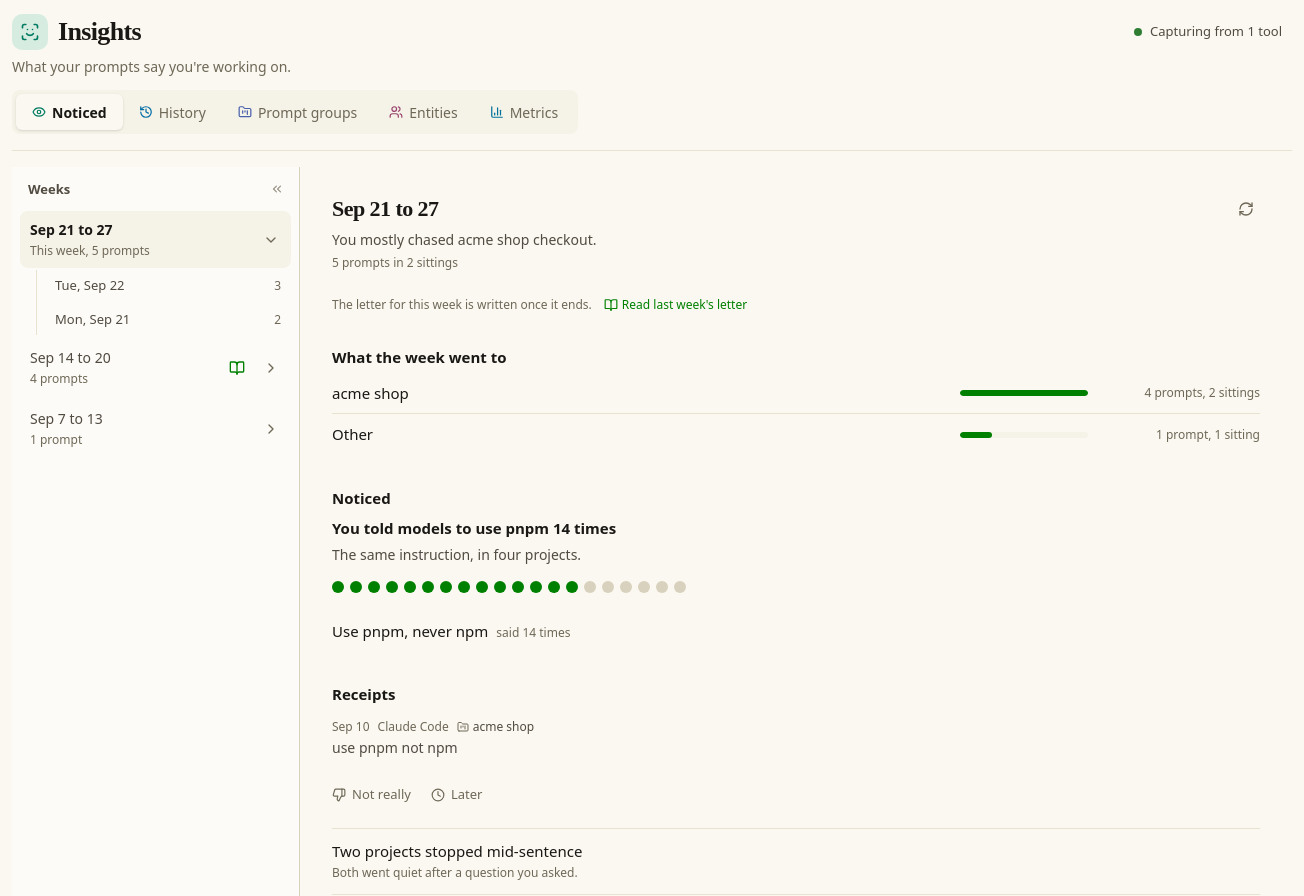
Test: Noticed › a receipt opens History on the day of that prompt
Click the button with aria-label "Open prompt from": (351, 726) [332, 710, 1260, 765]
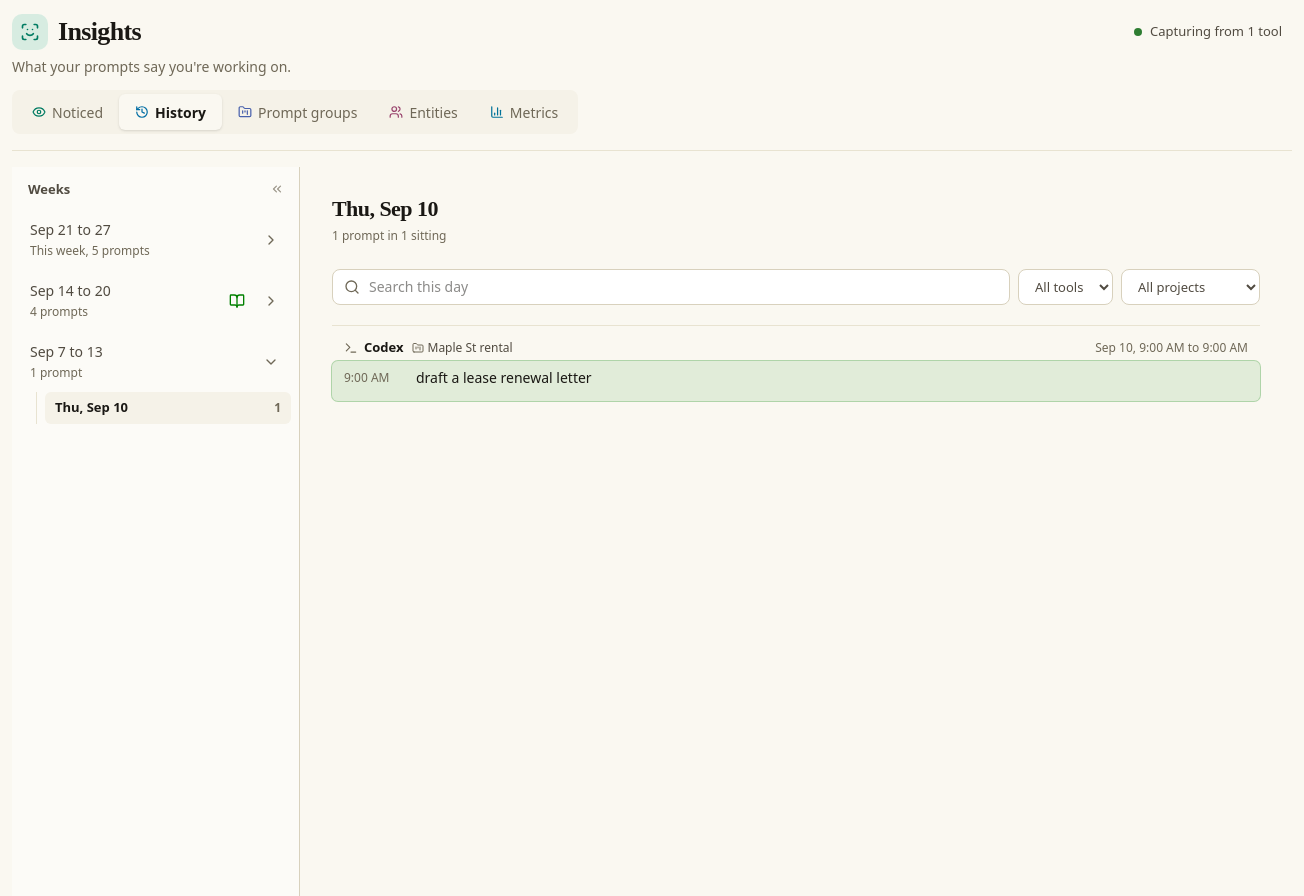
Expected: the text "draft a lease renewal letter" is shown, [416, 368, 592, 387]
